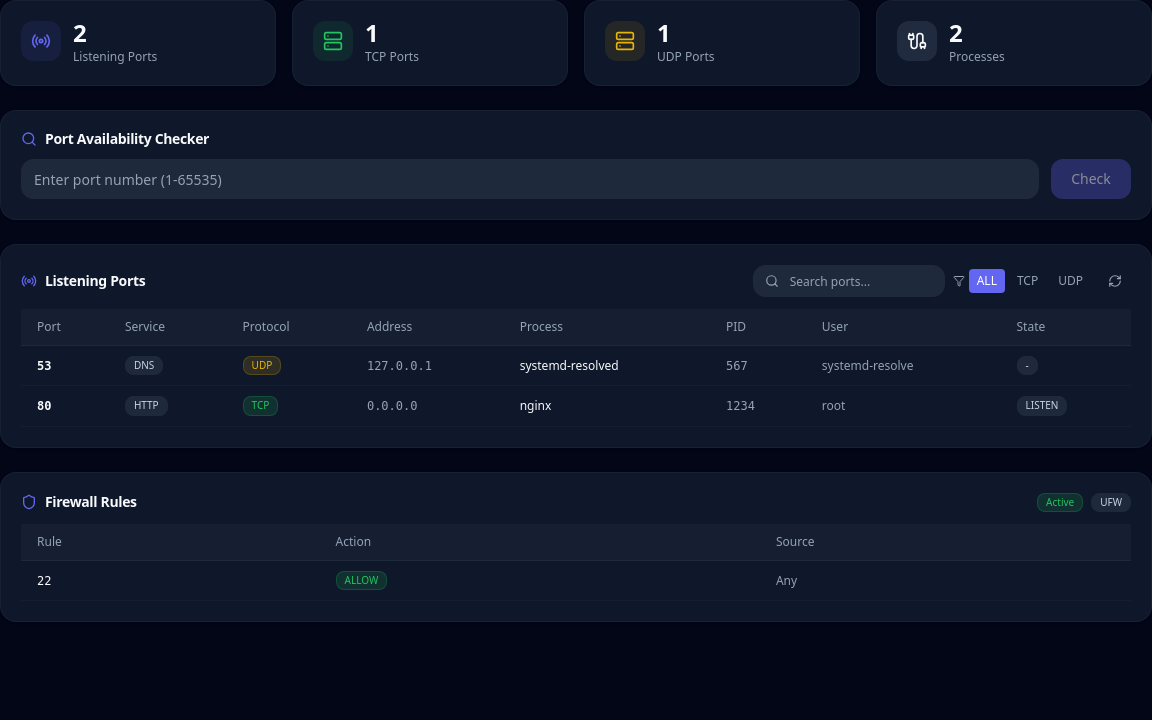
Test: PortsPage › filters listening ports by protocol
Click the button "UDP": {"x": 1071, "y": 281} [1050,269,1091,293]
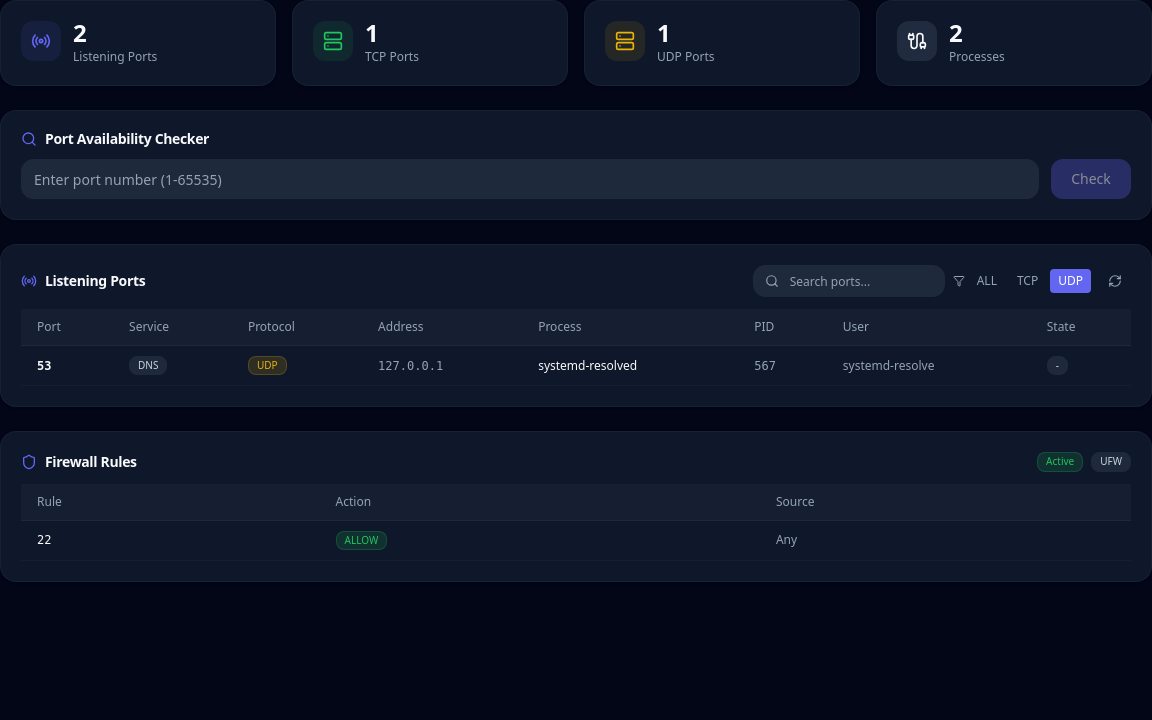
Check: the text "53" is shown, box [21,346,113,386]
Check: the text "80" is gone
